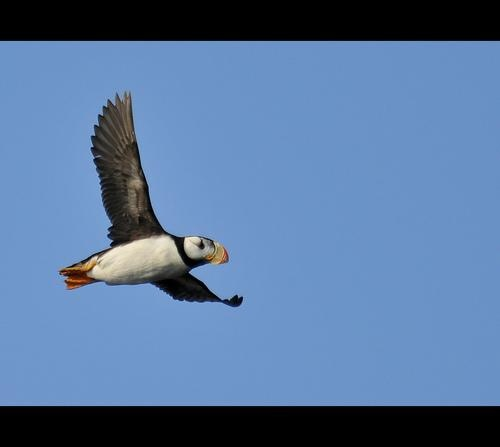bird: (57, 88, 245, 309)
